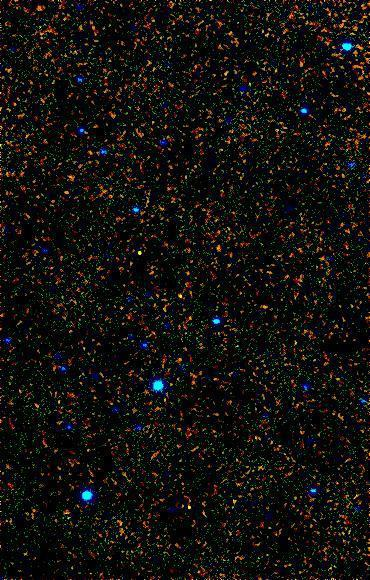star: (123, 237, 153, 267)
